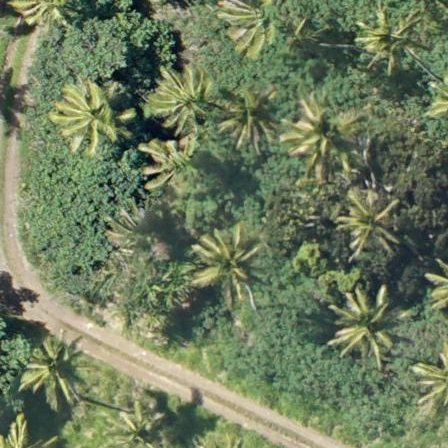palm_tree: (282, 89, 355, 168), (55, 79, 130, 155), (15, 331, 89, 404), (330, 290, 404, 362), (187, 223, 258, 298), (136, 135, 214, 202), (336, 182, 406, 252), (156, 63, 218, 131), (219, 87, 278, 150), (359, 9, 417, 73), (217, 1, 282, 54), (109, 403, 173, 448)
